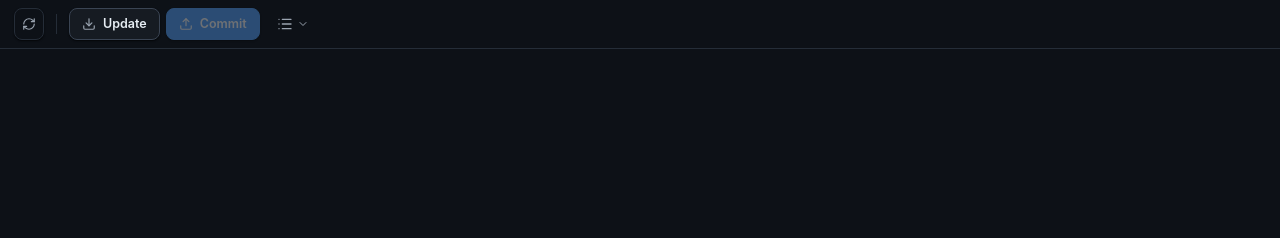
Toolbar — "Show items not checked out" › offers the toggle in the view menu inside a working copy
What coordinates should you click on to do the following:
click the button named "View options"
I would click on:
 (293, 24)
Its box is [268,8,318,40].
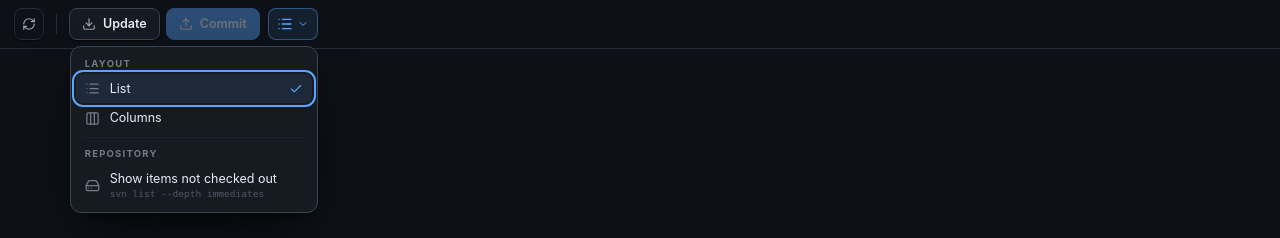
Check: the menu item "Show items not checked out" is shown, box [76,164,312,207]
